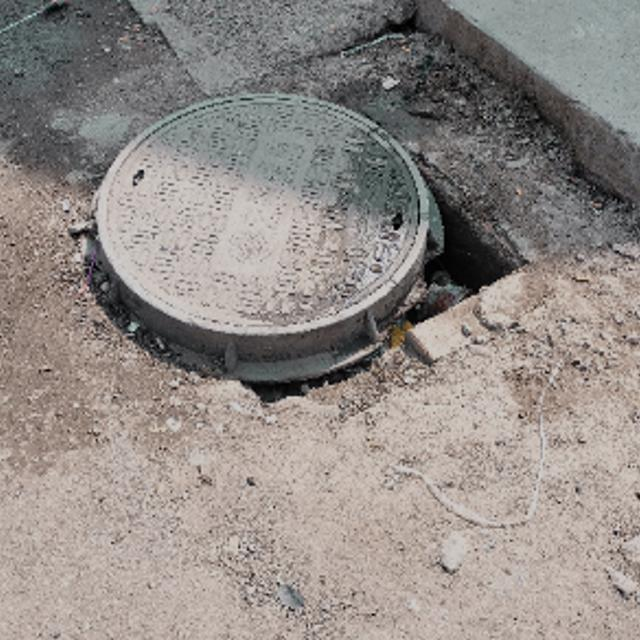circle: (75, 73, 494, 393)
